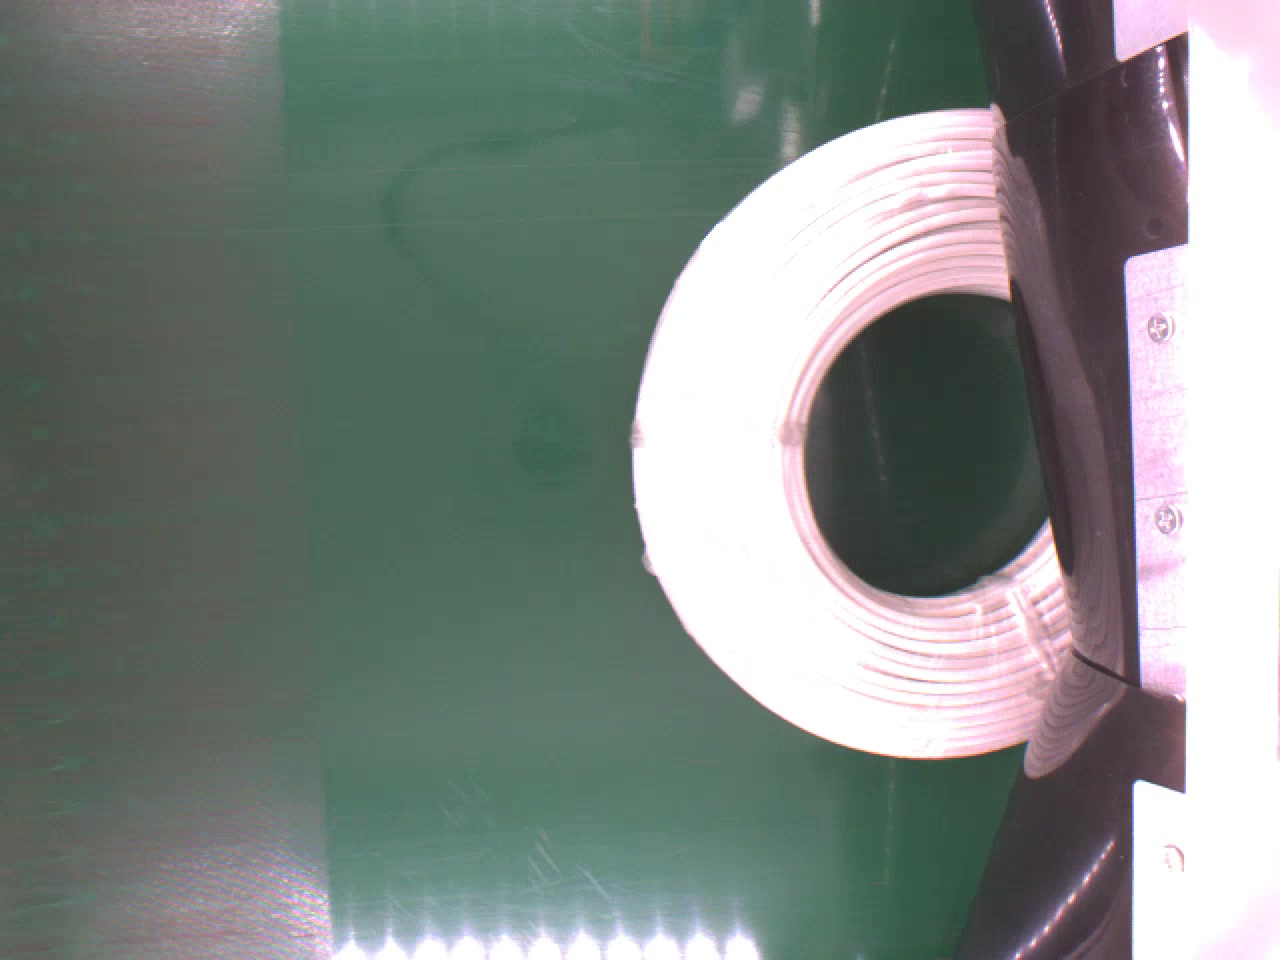white: (625, 109, 1076, 762)
